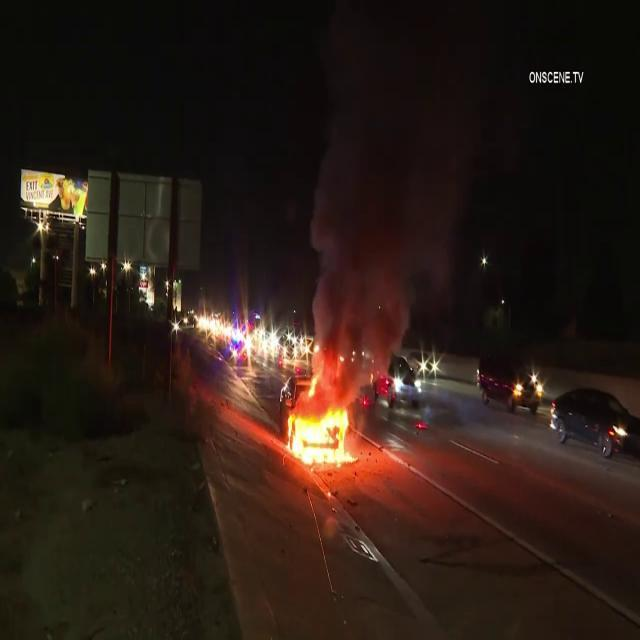Fire: (284, 394, 356, 472)
Smoke: (308, 2, 489, 363)
